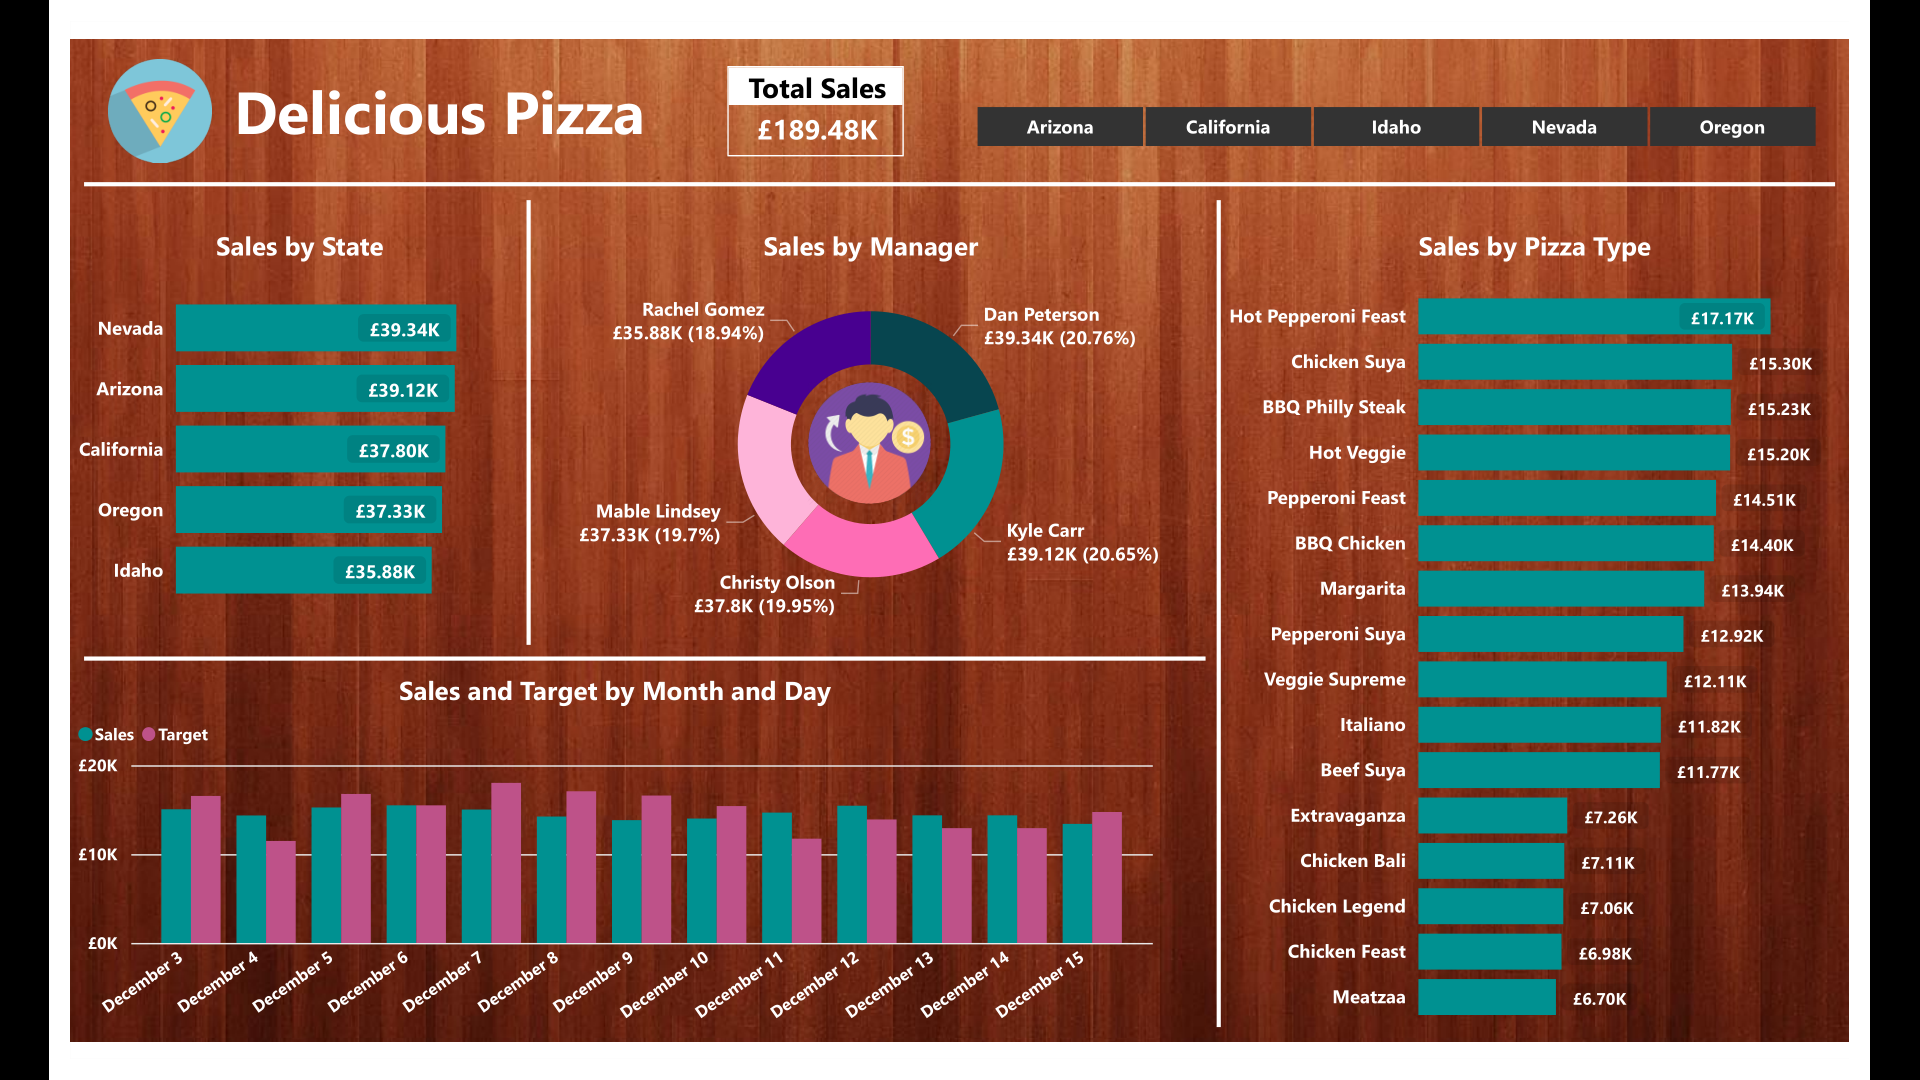

Layout of this report page (visuals, bound fields, positions):
{"tool":"powerbi","page":{"name":"Delicious Pizza Sales Report","canvas":[1280,720],"ordinal":0},"visuals":[{"type":"image","box":[15.6,9.7,97.3,83.6],"z":0},{"type":"textbox","box":[112.8,16.5,342.4,67.1],"z":1000},{"type":"card","title":"Total Sales","fields":{"Values":["Sales.Sales"]},"box":[472.7,18.5,127.4,65.2],"z":2000},{"type":"clusteredBarChart","title":"Sales by State","fields":{"Category":["Sales.State"],"Y":["Sales.Sales"]},"box":[0,135.2,330.7,286.9],"z":3000},{"type":"donutChart","fields":{"Category":["Branch Data.Manager"],"Y":["Sales.Sales"]},"box":[352.1,135.2,448.4,286.9],"z":4000},{"type":"image","box":[509.7,240.2,130.3,99.2],"z":5000},{"type":"basicShape","box":[0,73.9,1280,61.3],"z":6000},{"type":"slicer","fields":{"Values":["Sales.State"]},"box":[627.4,41.8,652.6,41.8],"z":7000},{"type":"clusteredColumnChart","fields":{"Y":["Sales.Sales","Daily Target.Target"],"Category":["Daily Target.Day.Variation.Date Hierarchy.Month","Daily Target.Day.Variation.Date Hierarchy.Day"]},"box":[0,455.2,784,264.6],"z":8000},{"type":"clusteredBarChart","fields":{"Y":["Sales.Sales"],"Category":["Sales.Pizza Type"]},"box":[826.7,135.2,453.3,584.6],"z":9000},{"type":"basicShape","box":[313.2,105,34,340.4],"z":10000},{"type":"basicShape","box":[0,414.3,826.7,61.3],"z":11000},{"type":"basicShape","box":[809.2,105,34,614.7],"z":12000}]}

Visuals, with their boxes in screenshot pixels (x1, y1, x2, y2), scaled from the page's 1280x720 canvas onto the 1920x1080 screenshot:
image: region(23, 15, 169, 140)
textbox: region(169, 25, 683, 125)
"Total Sales" card: region(709, 28, 900, 126)
"Sales by State" clusteredBarChart: region(0, 203, 496, 633)
donutChart - Branch Data.Manager x Sales.Sales: region(528, 203, 1201, 633)
image: region(765, 360, 960, 509)
basicShape: region(0, 111, 1919, 203)
slicer - Sales.State: region(941, 63, 1919, 125)
clusteredColumnChart - Sales.Sales x Daily Target.Target: region(0, 683, 1176, 1079)
clusteredBarChart - Sales.Sales x Sales.Pizza Type: region(1240, 203, 1919, 1079)
basicShape: region(470, 158, 521, 668)
basicShape: region(0, 621, 1240, 713)
basicShape: region(1214, 158, 1265, 1079)
